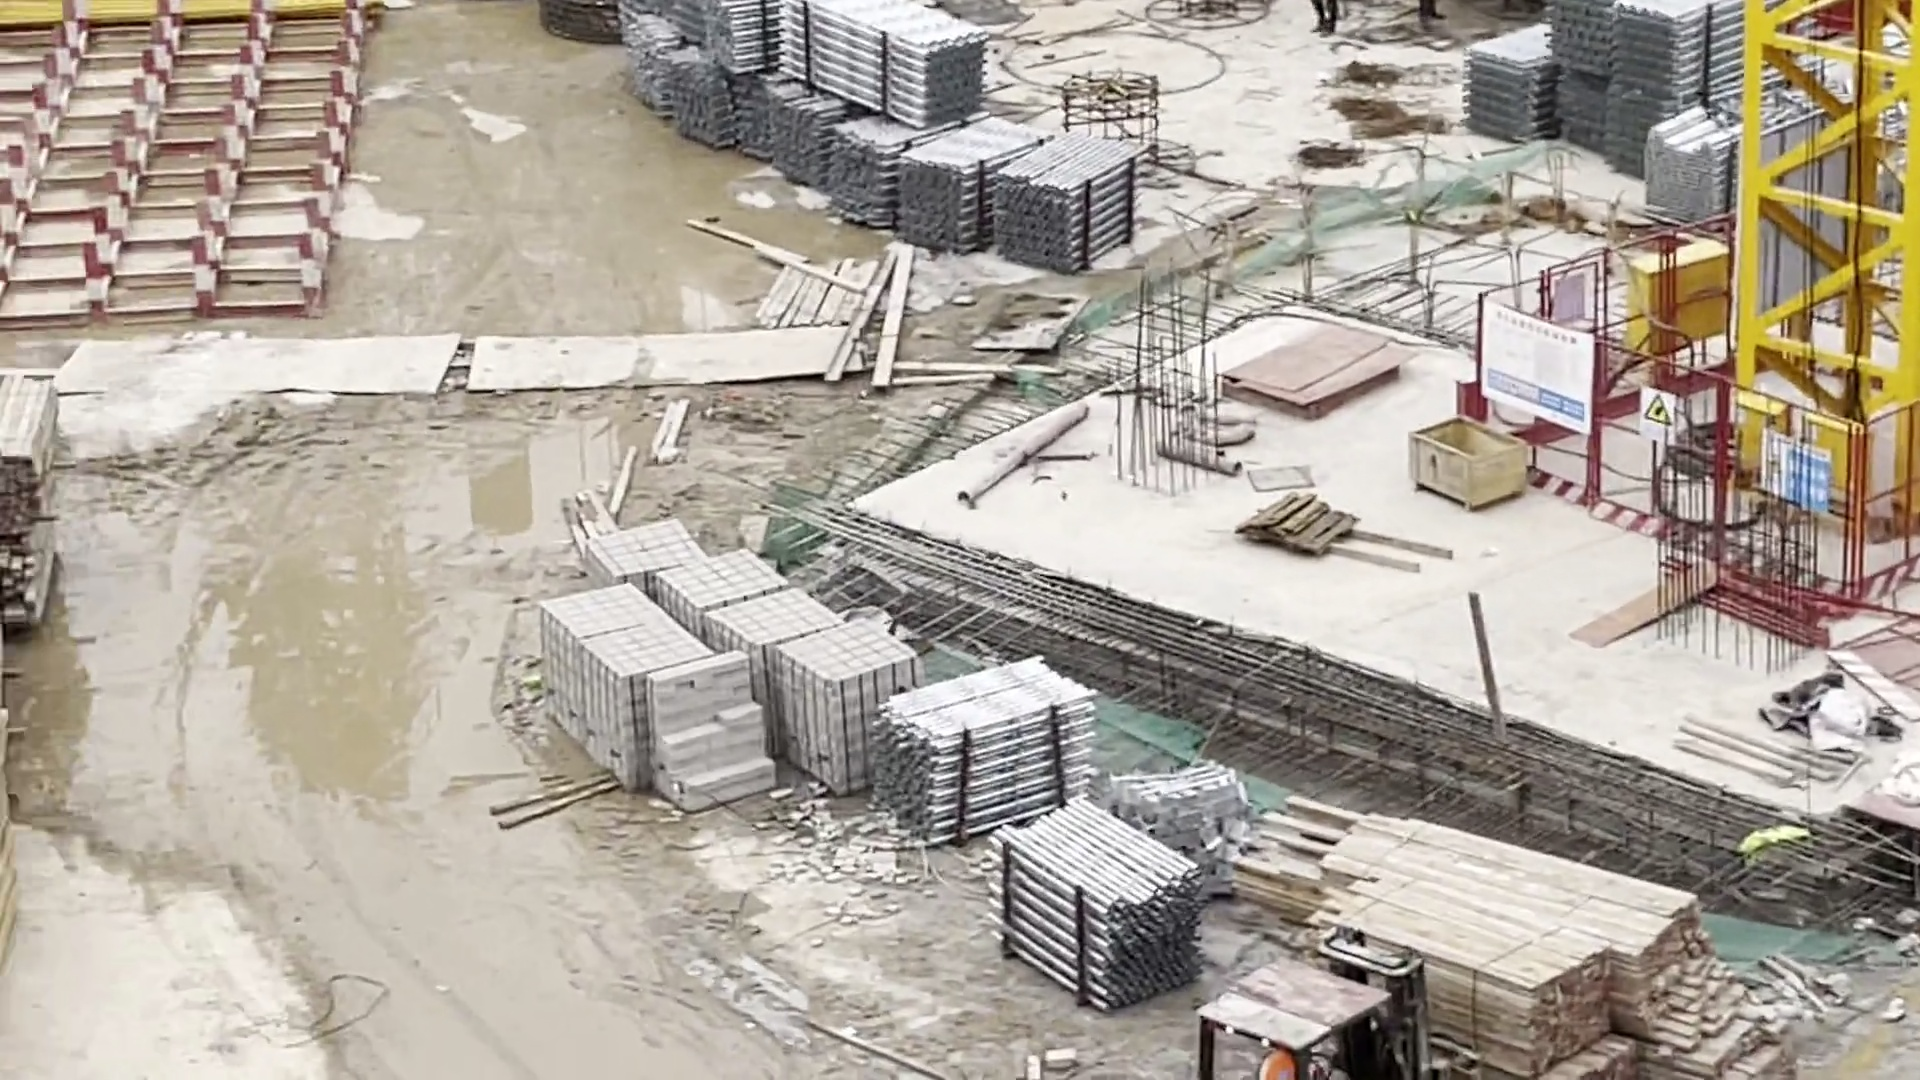board: (1221, 316, 1404, 411)
scaffold: (615, 1, 1139, 274), (1466, 1, 1720, 222), (1002, 793, 1197, 1018), (878, 661, 1096, 841)
slogan: (1636, 386, 1677, 442)
wood: (1286, 789, 1741, 1080)
